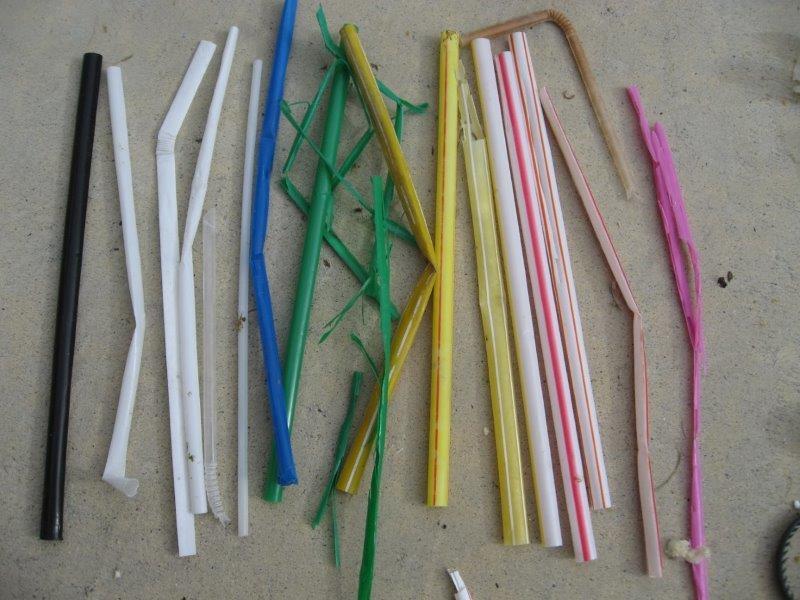plastic: (352, 7, 702, 600), (156, 41, 263, 556), (263, 0, 359, 508), (38, 46, 102, 547), (104, 67, 147, 501)
